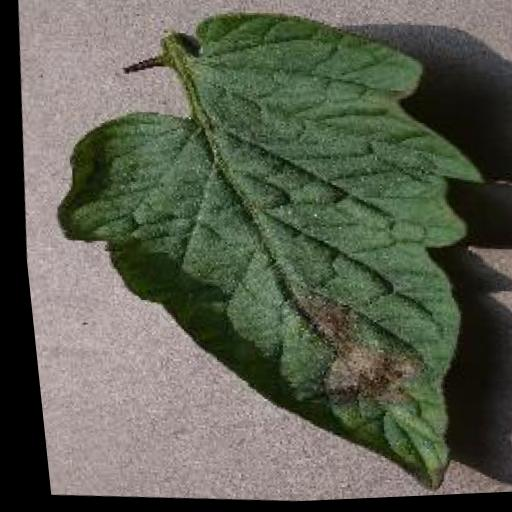Late Blight: (15, 0, 512, 511)
